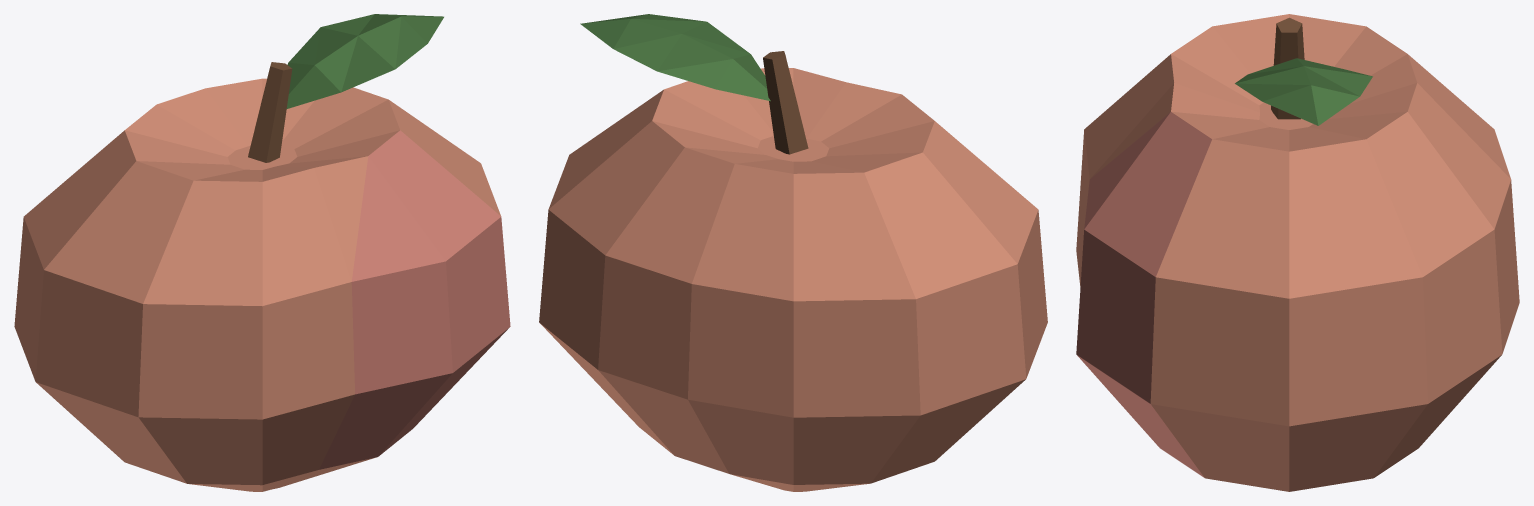
The model's file is peach.glb.
The picture shows the model from 3 angles, left to right: view 1: azimuth 30°, elevation 25°; view 2: azimuth 150°, elevation 25°; view 3: azimuth 270°, elevation 25°; orthographic projection. The views are drawn at different scales.
Visible parts, largest first — view 1: item; view 2: item; view 3: item.
Part boxes in pixels (<box>): item: <box>14,14,510,491</box>; item: <box>539,14,1047,491</box>; item: <box>1076,14,1519,491</box>.
Size of the model in its own units: 0.3024 by 0.2698 by 0.2287.
